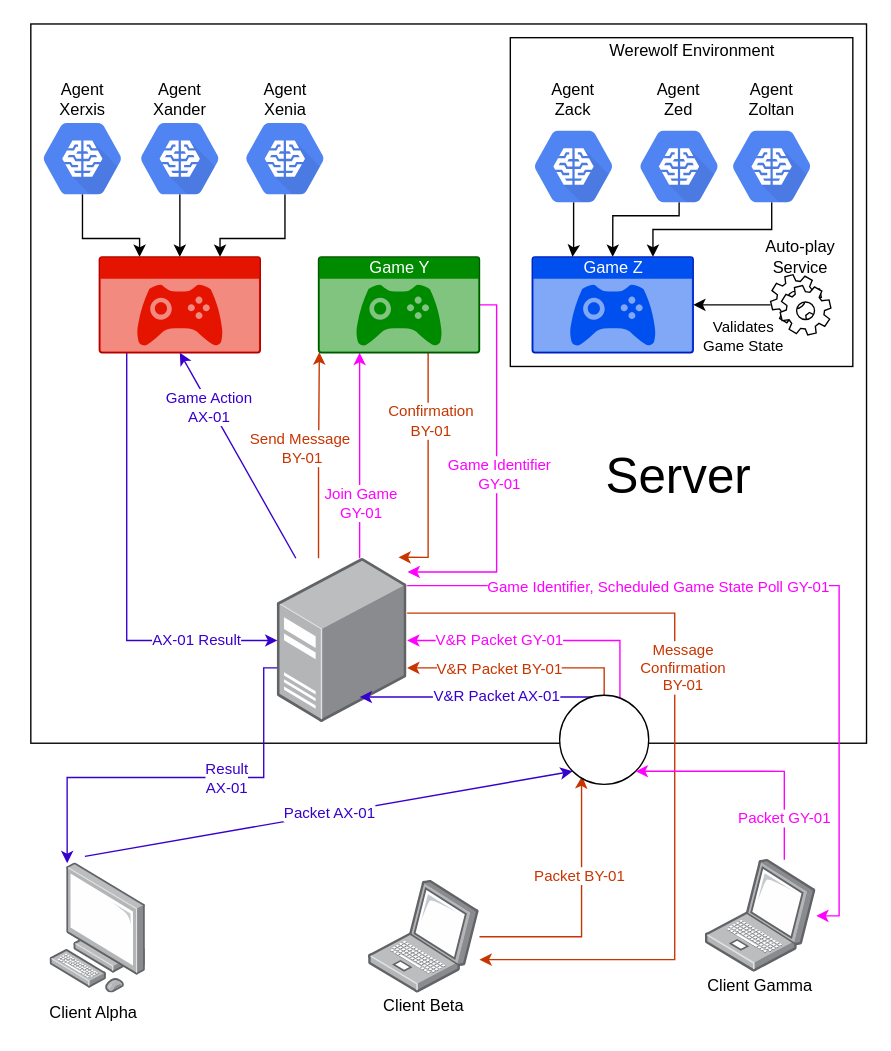
This 891x1051 diagram has some shape labels left out. The box of each missing label's shape, as (x1, y1, x2, y2) in pixels:
Game X: (98, 256, 260, 353)
Packet Handler Context (Entry): (558, 694, 649, 784)
